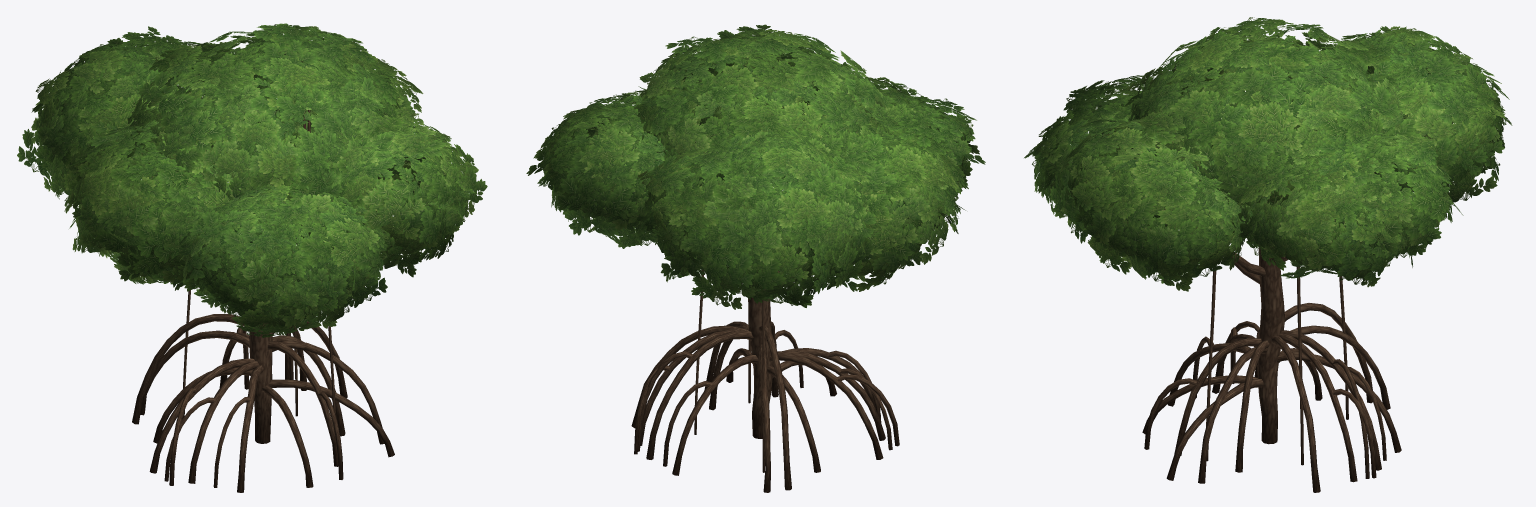
File: mangrove_b.glb
3 renders of one model, left to right at view 1: azimuth 30°, elevation 25°; view 2: azimuth 150°, elevation 25°; view 3: azimuth 270°, elevation 25°, orthographic. The views are drawn at different scales.
Visible parts, largest first — view 1: leaves, wood; view 2: leaves, wood; view 3: leaves, wood.
Boxes of the visible parts, x1,y1,x2,y2 form: leaves: [17, 23, 487, 337]; wood: [132, 110, 394, 492]; leaves: [526, 24, 985, 309]; wood: [631, 105, 899, 492]; leaves: [1024, 17, 1512, 291]; wood: [1142, 206, 1401, 492].
Bounding box in the file's own units: 8.8 × 9.11 × 9.94.
2 materials, 2 textured.
